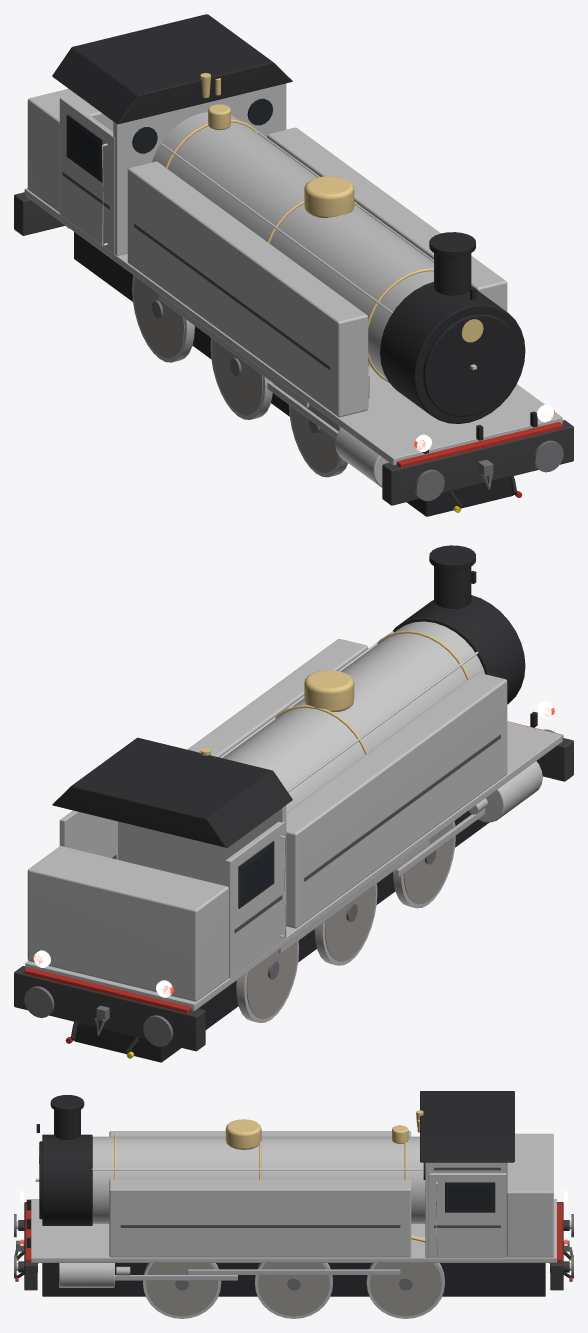
Rendered from train_steam_tank.glb.
The picture shows the model from 3 angles, top to bottom: view 1: azimuth 30°, elevation 25°; view 2: azimuth 150°, elevation 25°; view 3: azimuth 270°, elevation 25°; orthographic projection. The views are drawn at different scales.
Visible parts, largest first — view 1: SM_train_steam_tank; view 2: SM_train_steam_tank; view 3: SM_train_steam_tank.
Part boxes in pixels (left/top/right/bottom): SM_train_steam_tank: left=14, top=14, right=573, bottom=516; SM_train_steam_tank: left=14, top=545, right=573, bottom=1062; SM_train_steam_tank: left=14, top=1091, right=573, bottom=1318.
Bounding box in the file's own units: 2.7 × 3.9 × 10.01.
